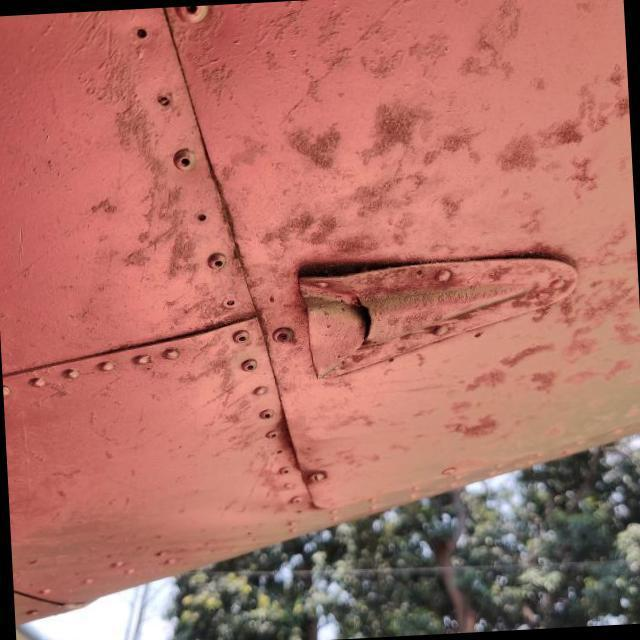Rupture: (337, 280, 386, 356)
